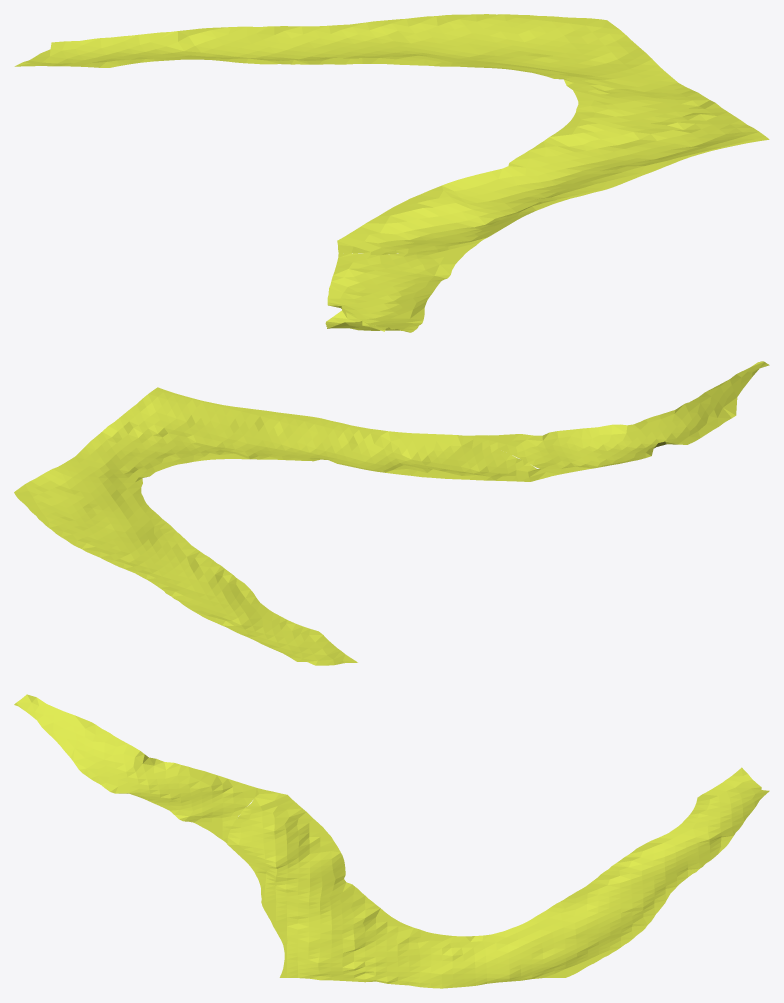
The model's file is col_carisle_mid_seabed_00.fbx.
3 renders of one model, top to bottom at view 1: azimuth 30°, elevation 25°; view 2: azimuth 150°, elevation 25°; view 3: azimuth 270°, elevation 25°, orthographic. The views are drawn at different scales.
Parts seen in each view (by area): view 1: col_carisle_mid_seabed_00; view 2: col_carisle_mid_seabed_00; view 3: col_carisle_mid_seabed_00.
Boxes of the visible parts, x1=… form: col_carisle_mid_seabed_00: x1=14, y1=14, x2=769, y2=332; col_carisle_mid_seabed_00: x1=14, y1=361, x2=769, y2=665; col_carisle_mid_seabed_00: x1=14, y1=694, x2=769, y2=988.
Bounding box in the file's own units: 121 × 163 × 14.21.
